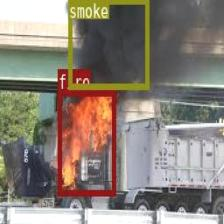fire: (57, 90, 115, 196)
smoke: (68, 0, 148, 89)
